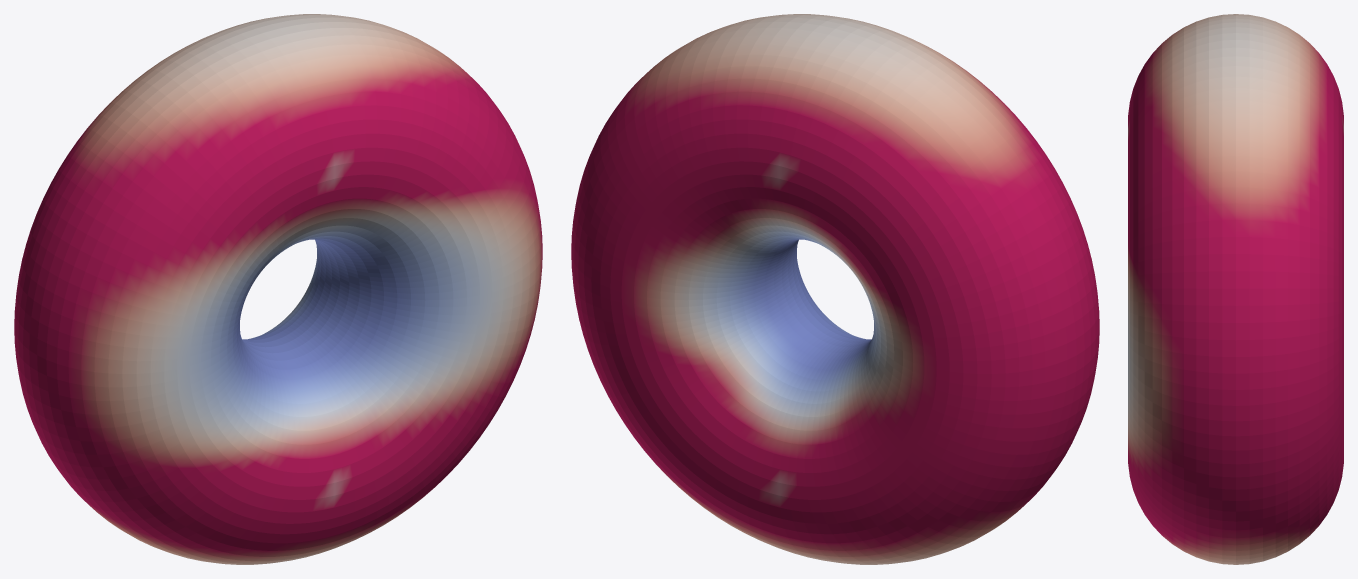
3 views of the same model, side by side, from view 1: azimuth 30°, elevation 25°; view 2: azimuth 150°, elevation 25°; view 3: azimuth 270°, elevation 25° (orthographic). The views are drawn at different scales.
Visible parts, largest first — view 1: world; view 2: world; view 3: world.
Part boxes in pixels (<box>): world: <box>14,14,542,564</box>; world: <box>571,14,1099,564</box>; world: <box>1128,14,1343,564</box>.
Size of the model in its own units: 24.13 by 24.13 by 9.45.
